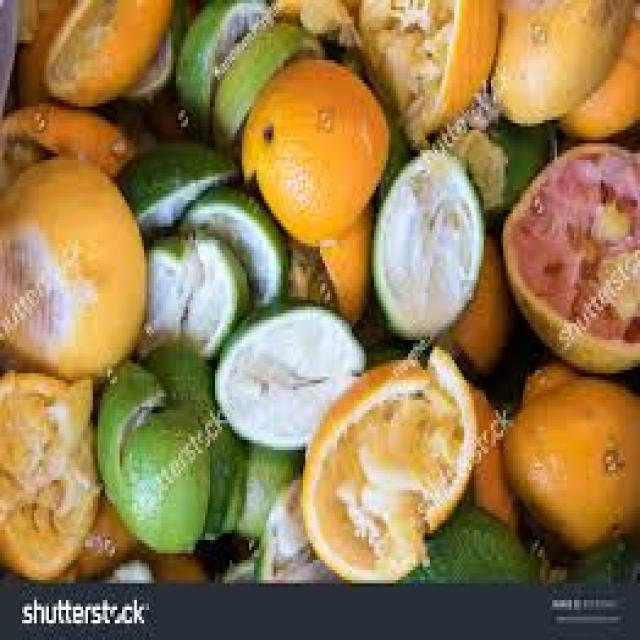Organik: (0, 0, 640, 582), (0, 80, 154, 375)
